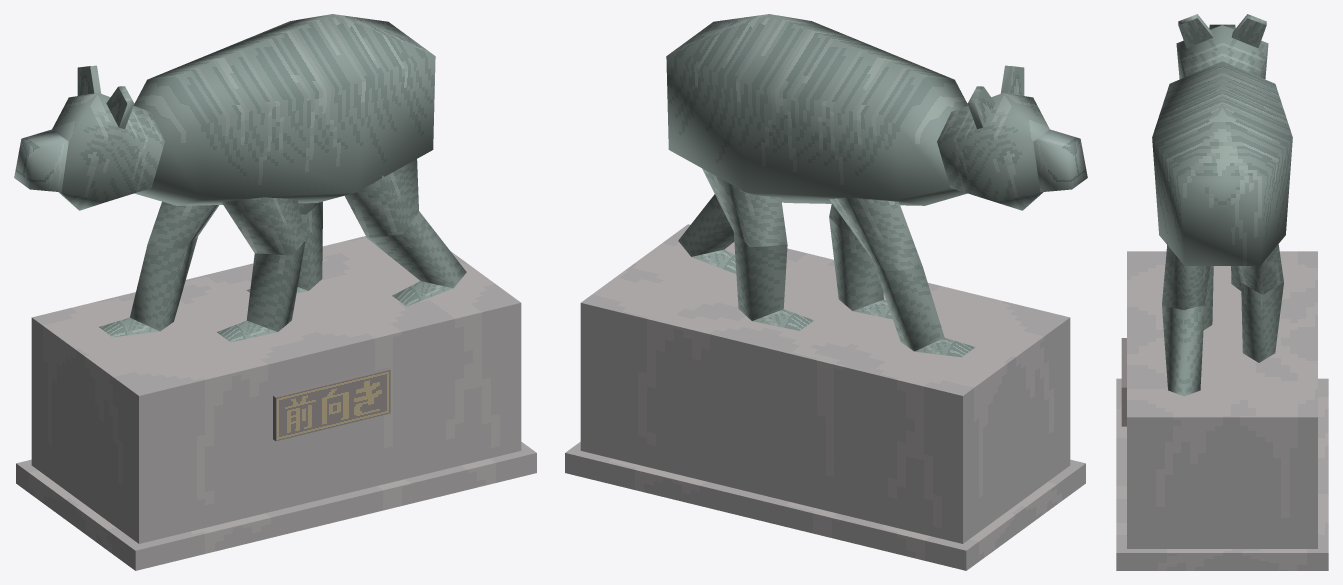
The model's file is 03ea_Bear_Cub_Statue.glb.
The picture shows the model from 3 angles, left to right: view 1: azimuth 30°, elevation 25°; view 2: azimuth 150°, elevation 25°; view 3: azimuth 270°, elevation 25°; orthographic projection. The views are drawn at different scales.
Visible parts, largest first — view 1: part_0; view 2: part_0; view 3: part_0.
Part boxes in pixels (<box>): part_0: <box>14,14,536,570</box>; part_0: <box>565,14,1087,570</box>; part_0: <box>1116,14,1328,570</box>.
Bounding box in the file's own units: 0.8907 × 0.8427 × 0.4048.
Materials: 1 (1 with a texture image).
